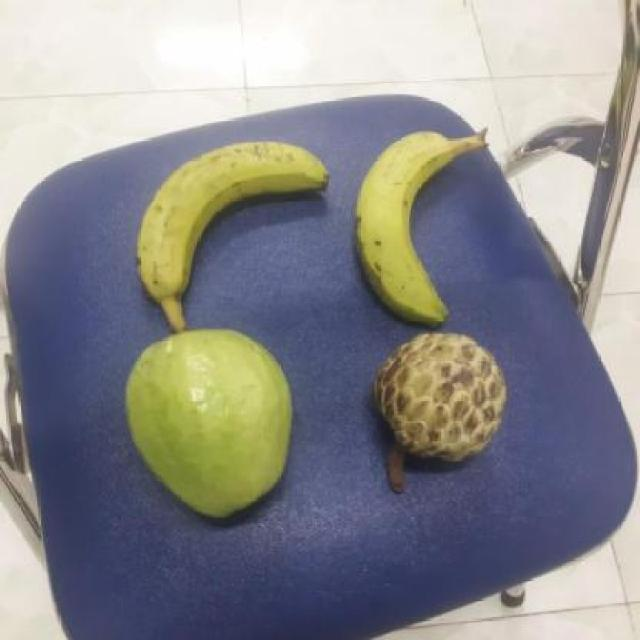banana: (133, 139, 330, 316), (348, 124, 467, 333)
guava: (121, 328, 301, 520)
sugar apple: (373, 328, 512, 459)
